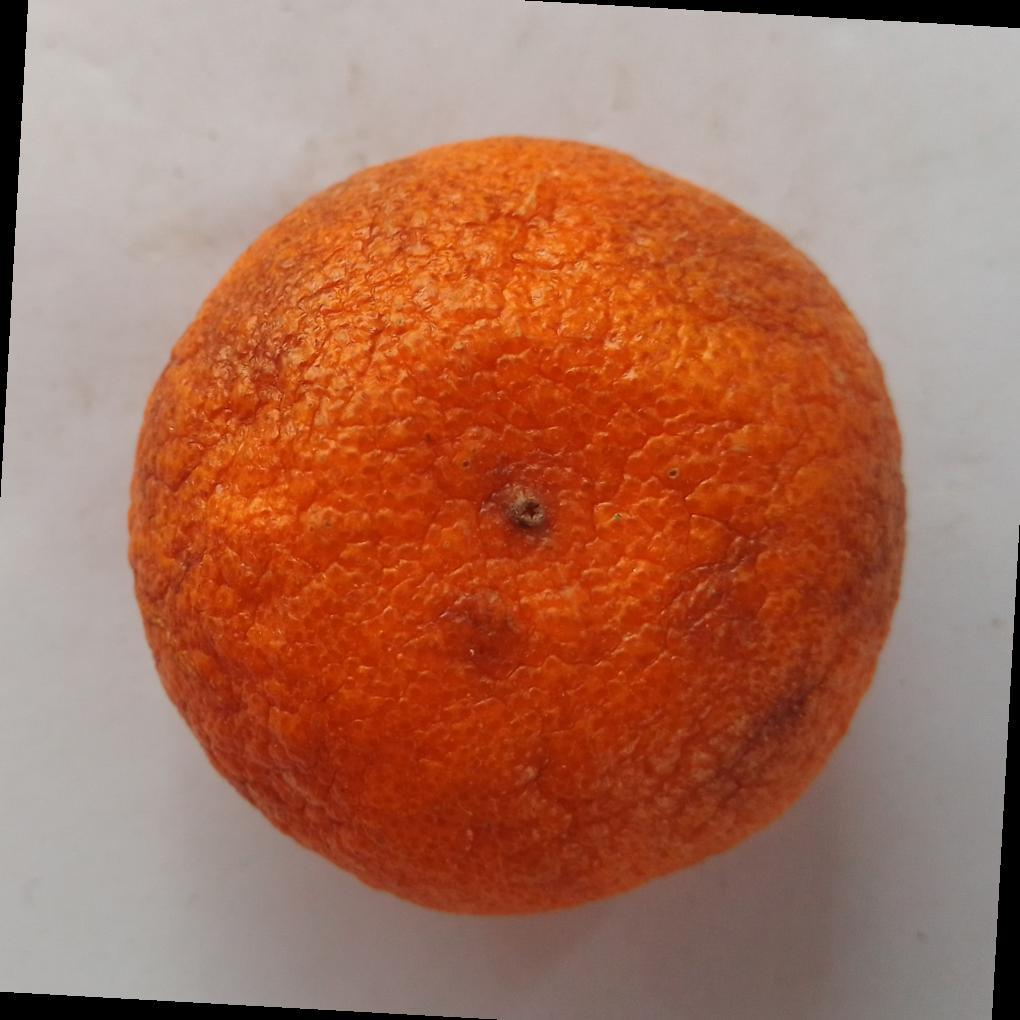FreshOrange: (124, 135, 909, 922)
